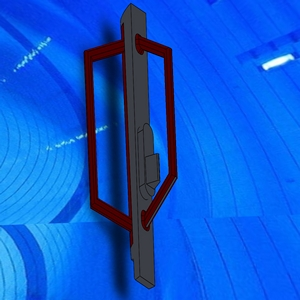submarine: (80, 2, 196, 294)
